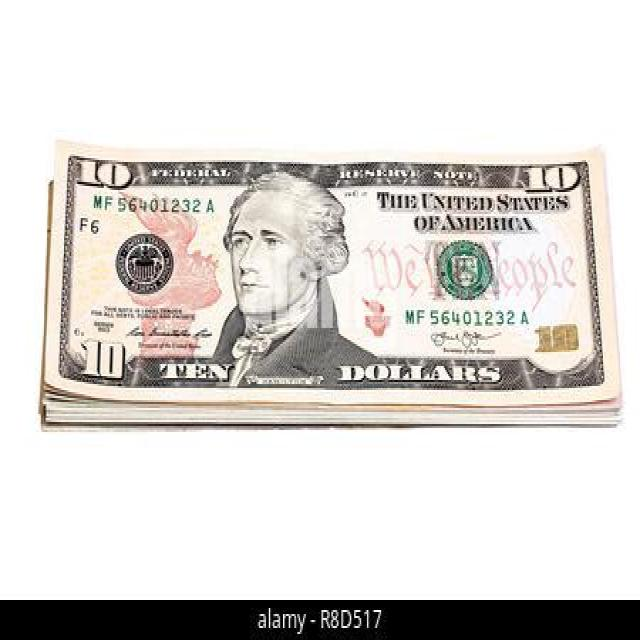Ten: (50, 137, 622, 410)
